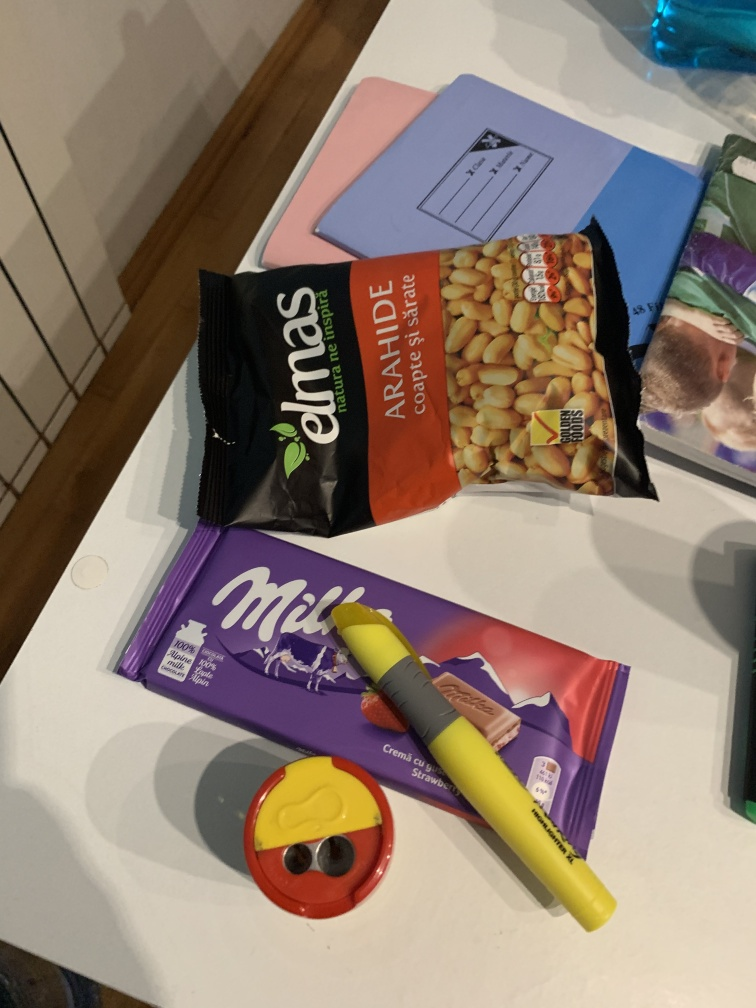milka: (119, 514, 641, 871)
peanuts: (184, 216, 666, 532)
